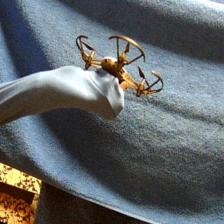drone: (74, 32, 165, 100)
